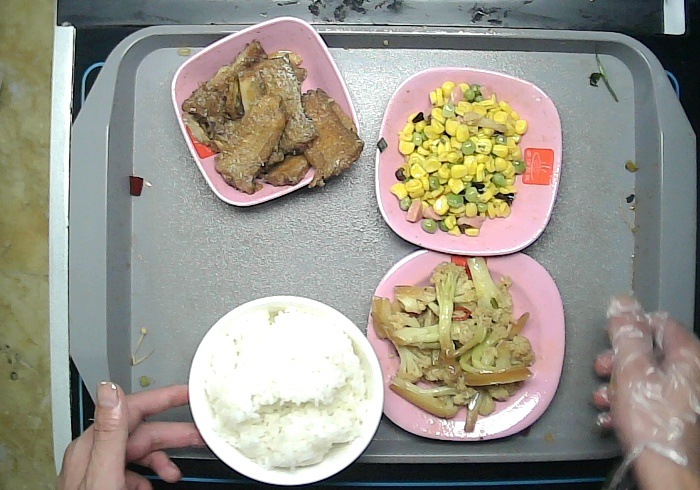SHKJ-Fan_Wan: (186, 291, 390, 489)
SHKJ-Fen_Se_Cai_Die: (374, 64, 571, 264)
SHKJ-Fen_Se_Si_Fang_Cai_Die: (359, 240, 575, 449)
SHKJ-Fen_Se_Xiao_Fang_Die: (170, 15, 368, 211)
